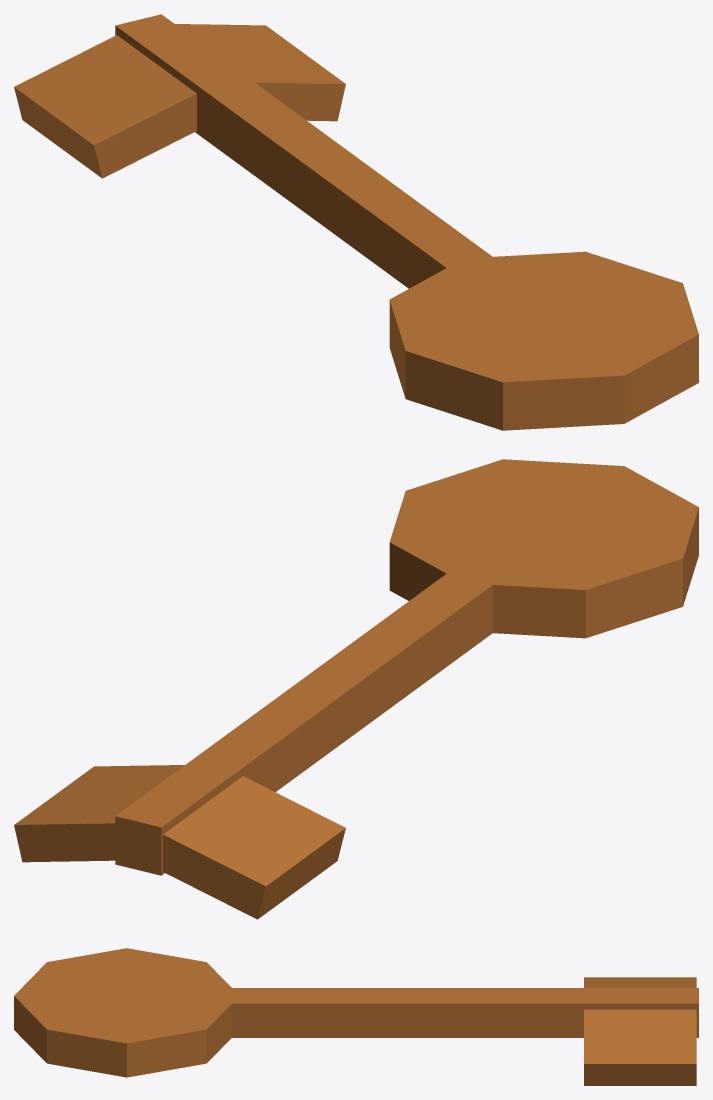
The model's file is llave2.glb.
3 renders of one model, top to bottom at view 1: azimuth 30°, elevation 25°; view 2: azimuth 150°, elevation 25°; view 3: azimuth 270°, elevation 25°, orthographic. The views are drawn at different scales.
Parts seen in each view (by area): view 1: Cube; view 2: Cube; view 3: Cube.
Boxes of the visible parts, x1,y1,x2,y2 form: Cube: (14, 14, 698, 430); Cube: (14, 459, 698, 919); Cube: (14, 948, 698, 1085).
Bounding box in the file's own units: 0.14 × 0.0339 × 0.4249.
